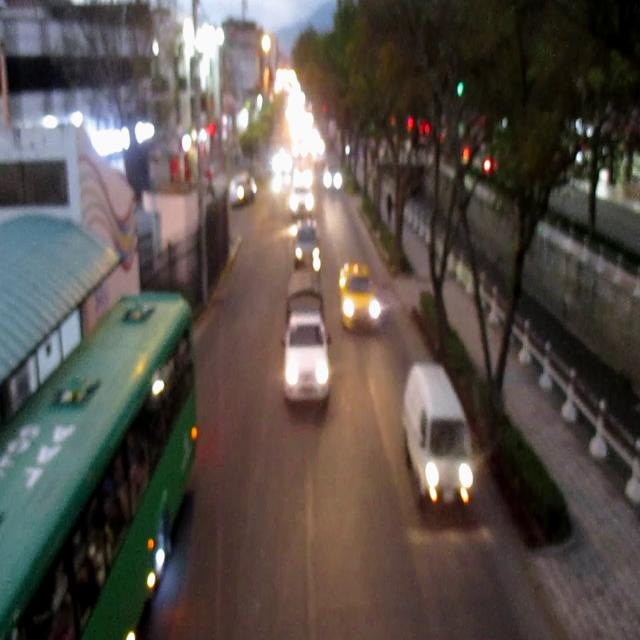BUS: (3, 294, 202, 636)
